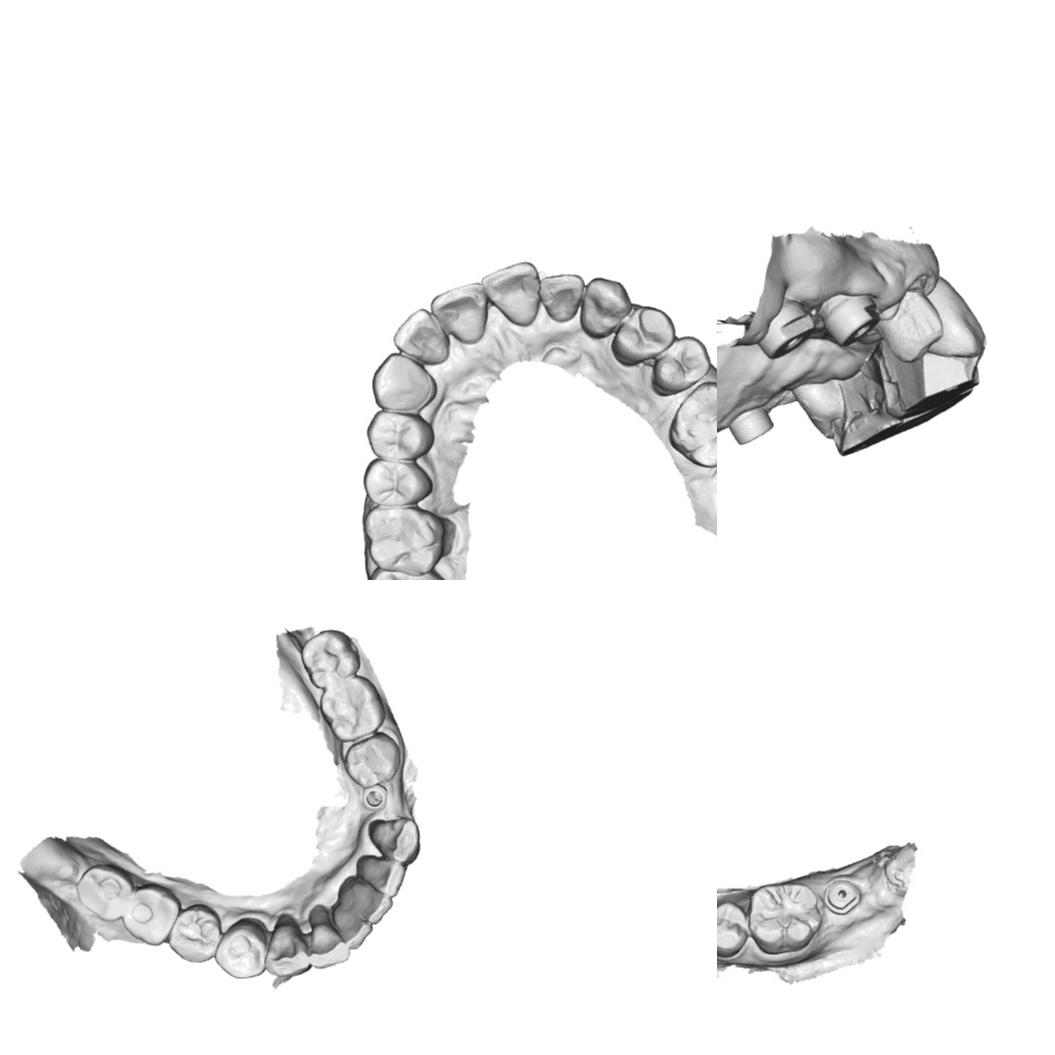canine: (370, 350, 438, 417), (578, 274, 633, 339), (263, 913, 312, 979), (368, 817, 420, 866)
implant: (824, 291, 887, 354), (756, 300, 818, 362), (726, 404, 780, 447), (824, 872, 862, 918), (360, 783, 388, 812)
incisor: (478, 260, 542, 328), (427, 279, 491, 345), (391, 306, 451, 366), (306, 904, 350, 968), (339, 875, 393, 924), (538, 271, 586, 326), (355, 854, 406, 898), (330, 901, 373, 950)
molar: (358, 503, 454, 577), (748, 878, 823, 957), (667, 380, 717, 471), (319, 674, 384, 742), (122, 882, 182, 946), (300, 628, 361, 690), (74, 862, 134, 922), (366, 566, 451, 580)
premolar: (610, 304, 677, 367), (649, 333, 712, 395), (360, 457, 438, 507), (363, 409, 436, 461), (213, 916, 267, 980), (168, 902, 222, 964), (342, 732, 401, 788), (717, 899, 752, 962)
